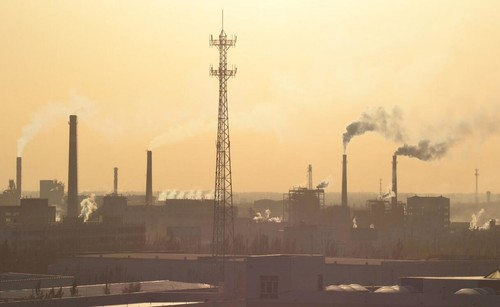dust: (10, 102, 80, 166), (386, 125, 465, 167), (136, 120, 221, 157), (336, 106, 387, 161)
